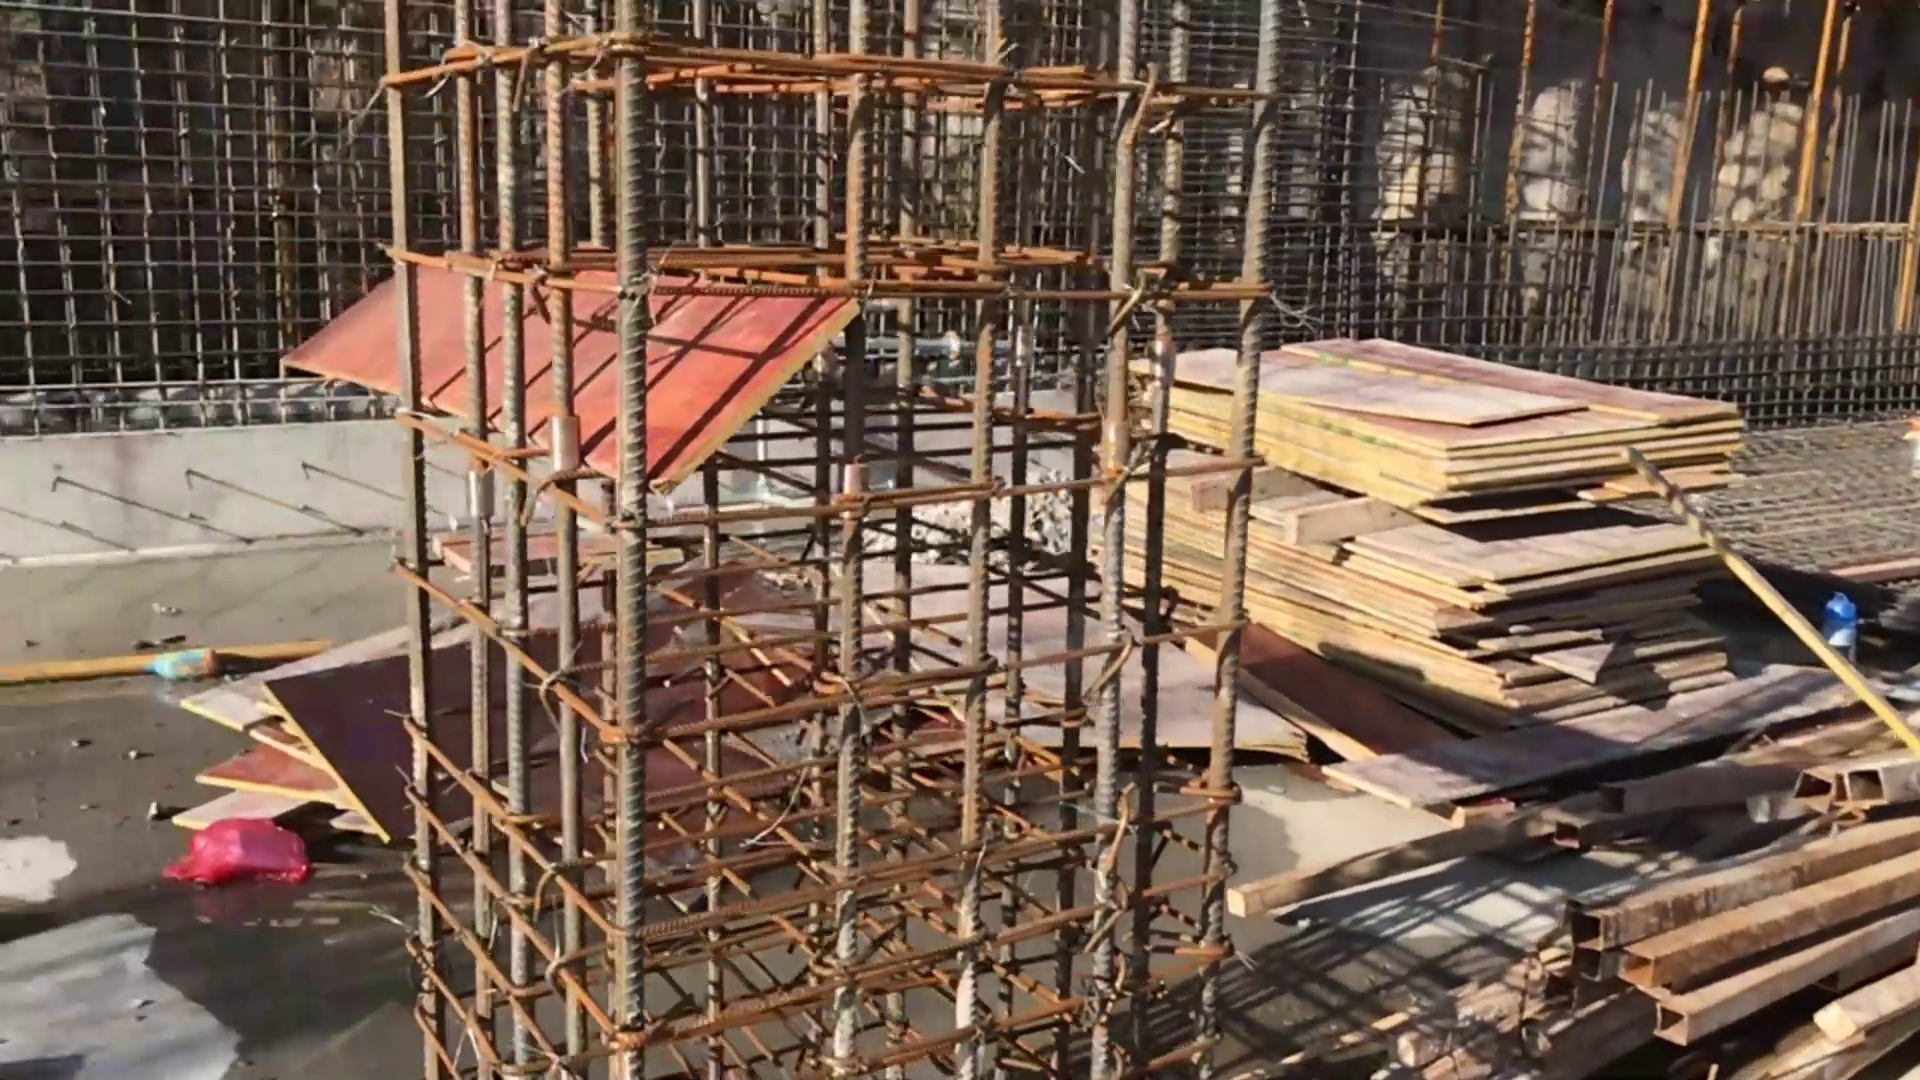board: (1142, 331, 1751, 698)
rebar: (1440, 752, 1920, 1076)
